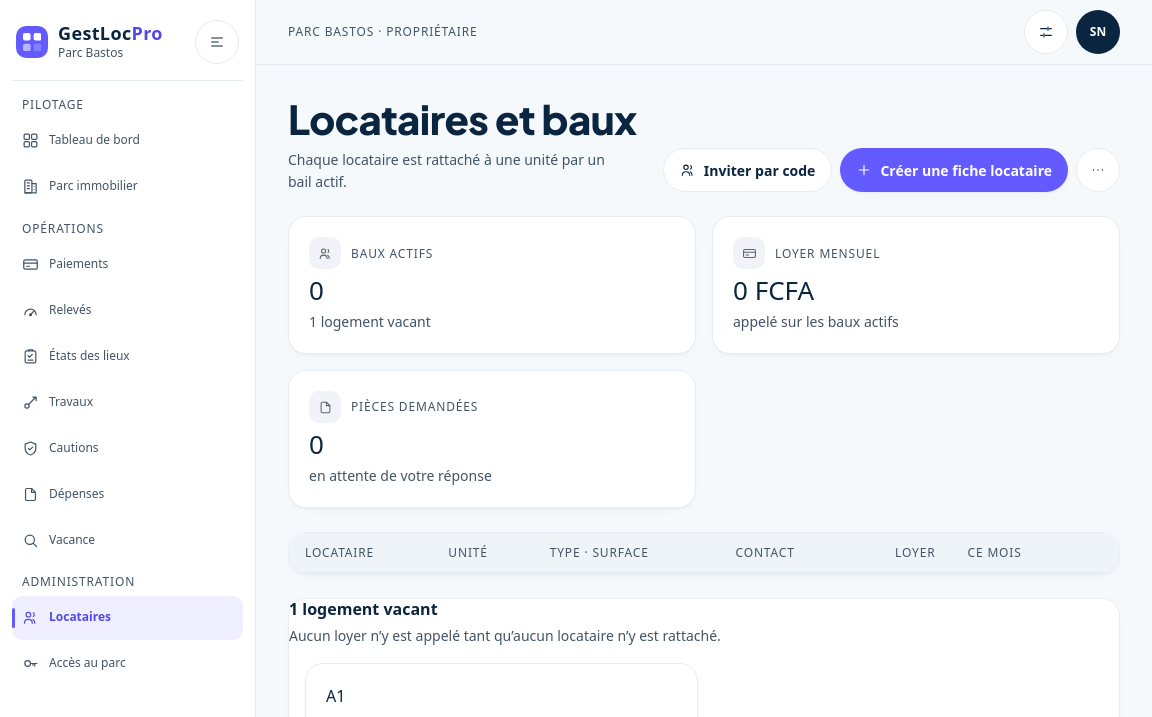
Test: création d’une fiche locataire refusée par le serveur › félicite, et une seule fois, quand le serveur a dit oui
Click the button "Créer une fiche locataire". click: (954, 170)
box: x1=840 y1=148 x2=1068 y2=192
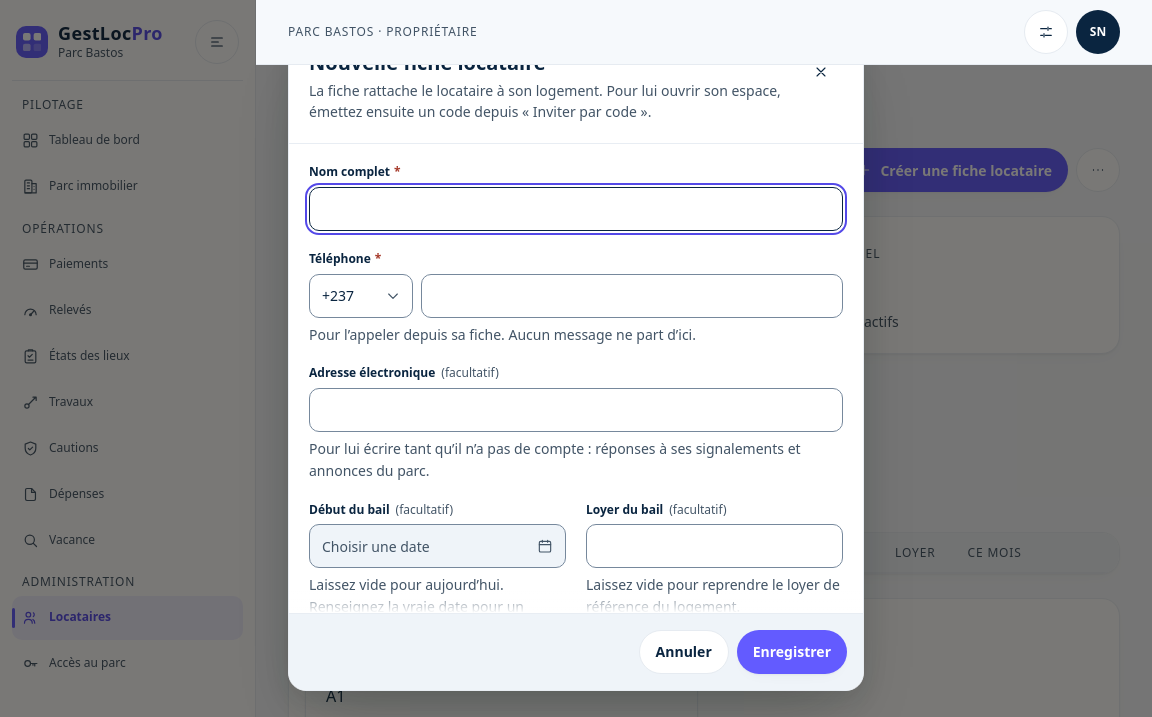
Type "Serge Mbarga" into the field labelled "Nom complet*". click: (576, 209)
box: x1=309 y1=187 x2=843 y2=231
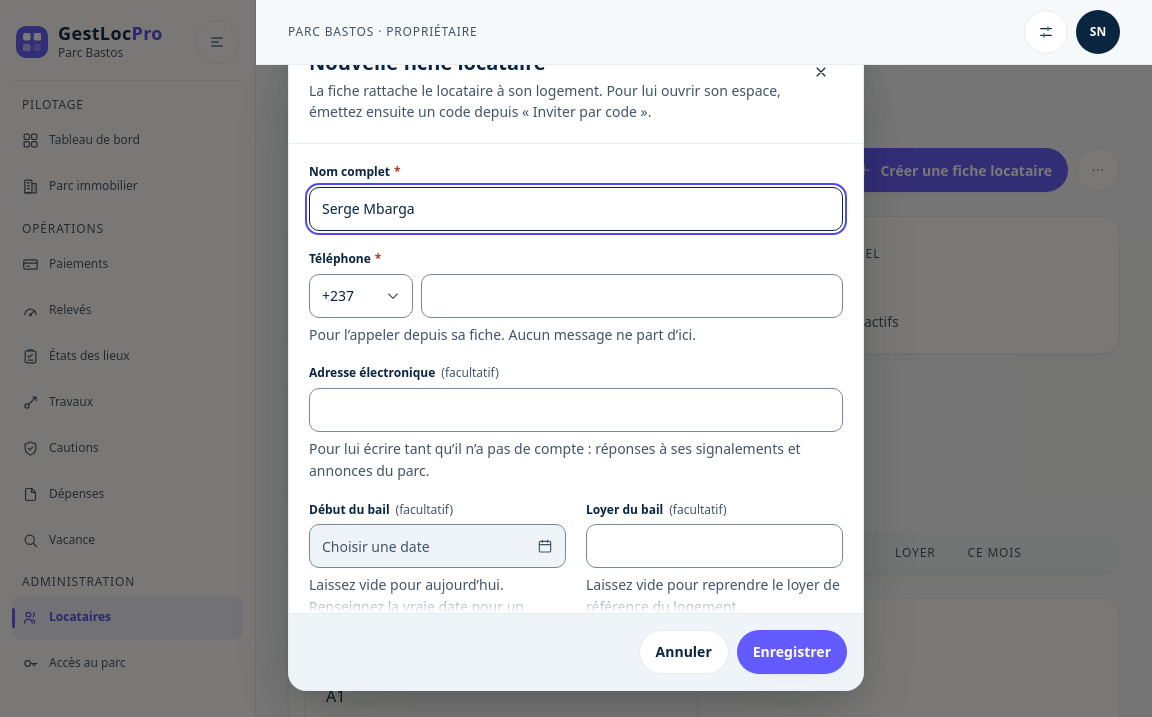
Type "677214408" into the field labelled "Téléphone*". click: (632, 296)
box: x1=421 y1=274 x2=843 y2=318
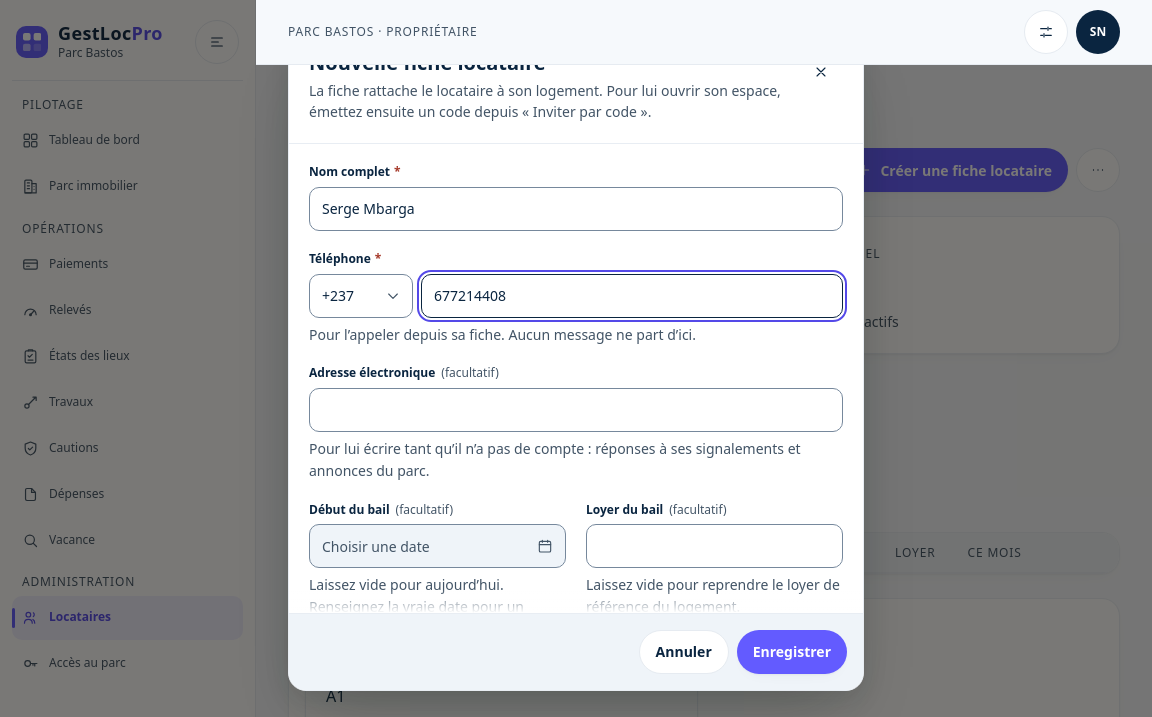
Click the button "Enregistrer". click: (792, 652)
box: x1=737 y1=630 x2=847 y2=674
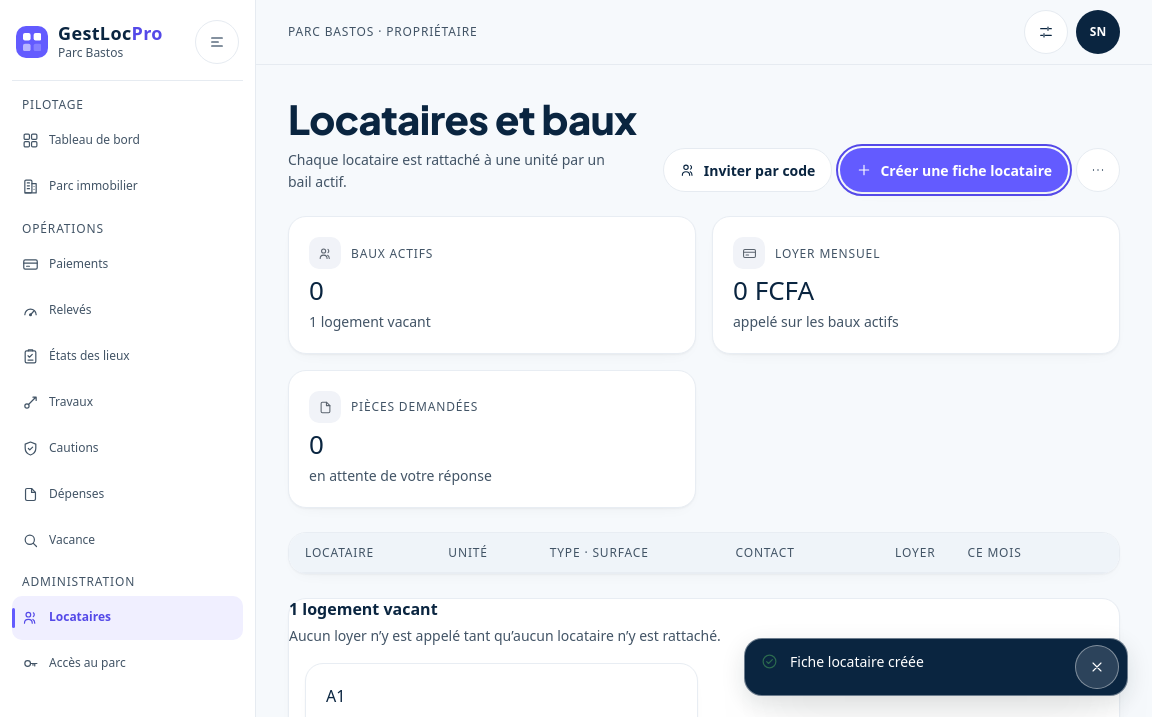
Expected: the text "Fiche locataire créée" is shown, x1=790 y1=652 x2=924 y2=671
